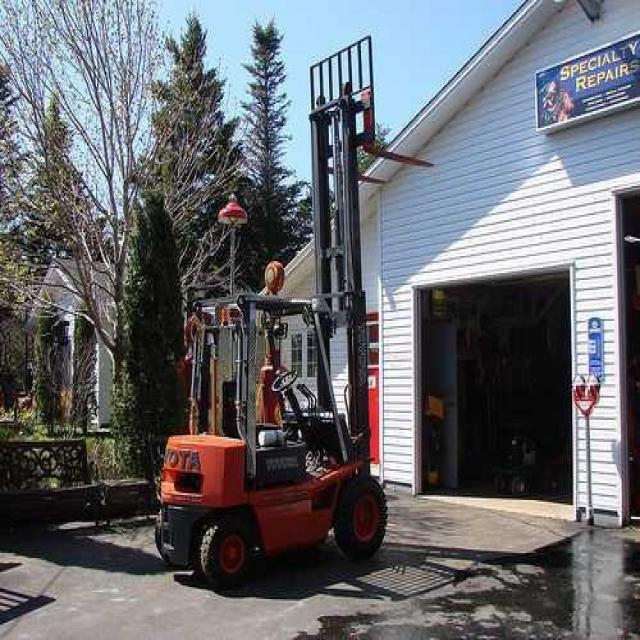Chariot elevateur: (156, 34, 437, 584)
